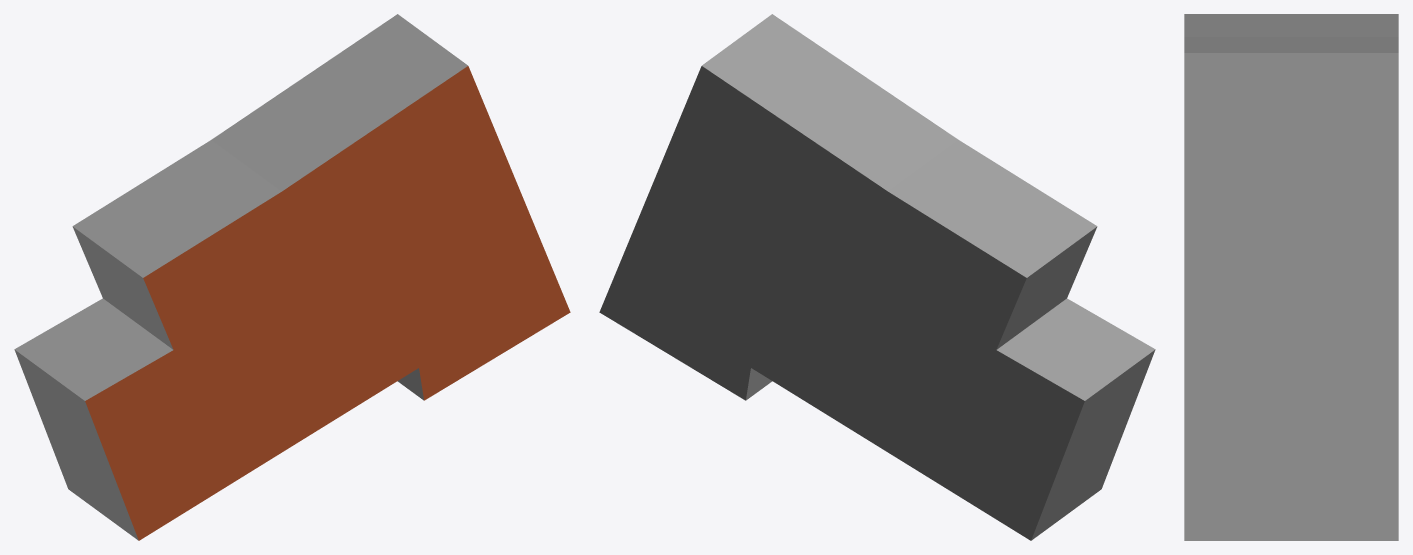
Rendered from construction_6052_assumed_A_Casa_h6m.obj.
3 renders of one model, left to right at view 1: azimuth 30°, elevation 25°; view 2: azimuth 150°, elevation 25°; view 3: azimuth 270°, elevation 25°, orthographic. The views are drawn at different scales.
Parts seen in each view (by area): view 1: construction_6052_assumed_A_Casa; view 2: construction_6052_assumed_A_Casa; view 3: construction_6052_assumed_A_Casa.
Boxes of the visible parts, <box> form: construction_6052_assumed_A_Casa: <box>14,14,570,540</box>; construction_6052_assumed_A_Casa: <box>599,14,1155,540</box>; construction_6052_assumed_A_Casa: <box>1184,14,1398,540</box>.
Size of the model in its own units: 23.8 by 18.5 by 6.
